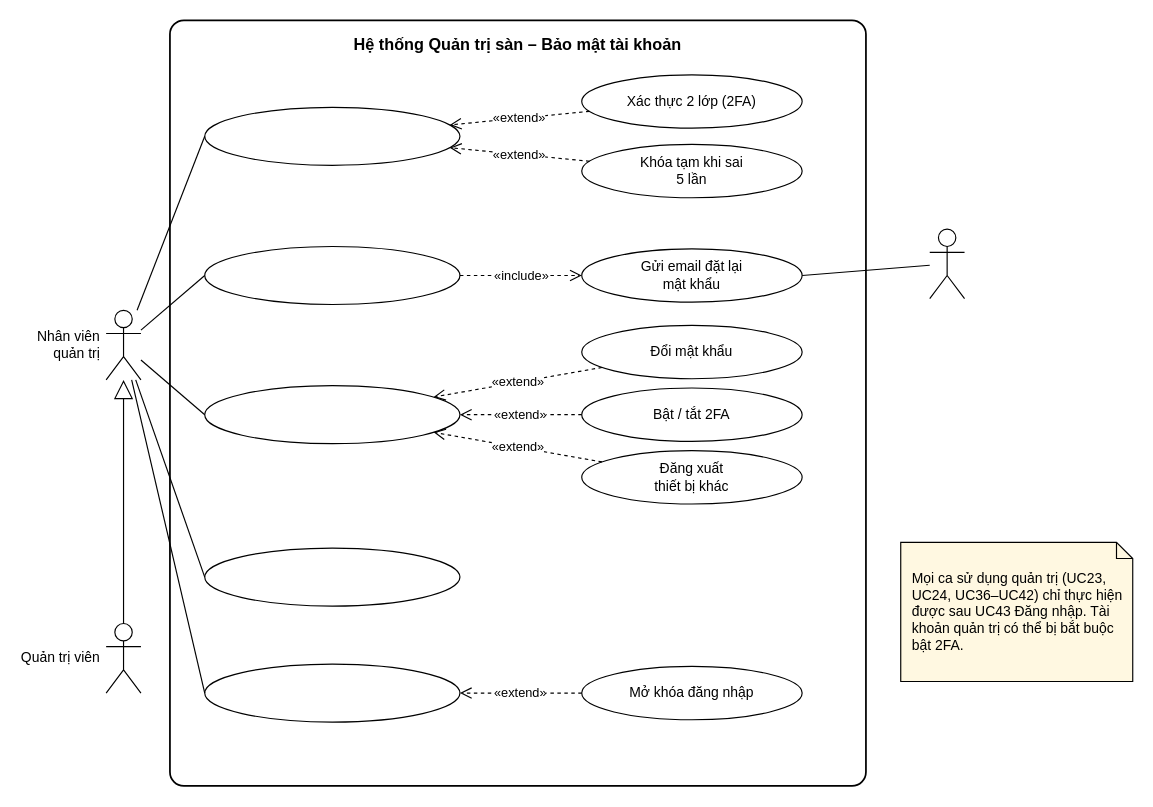
This 1153x807 diagram has some shape labels left out. Each missing label, with the centre of its shape:
"Dịch vụ thông báo" goes at point (947, 263).
"UC43 Đăng nhập" goes at point (332, 135).
"UC44 Đặt lại mật khẩu" goes at point (332, 274).
"UC45 Quản lý bảo mật tài khoản" goes at point (332, 414).
"UC46 Đăng xuất" goes at point (332, 576).
"UC47 Giám sát đăng nhập & cấu hình bảo mật" goes at point (332, 692).
